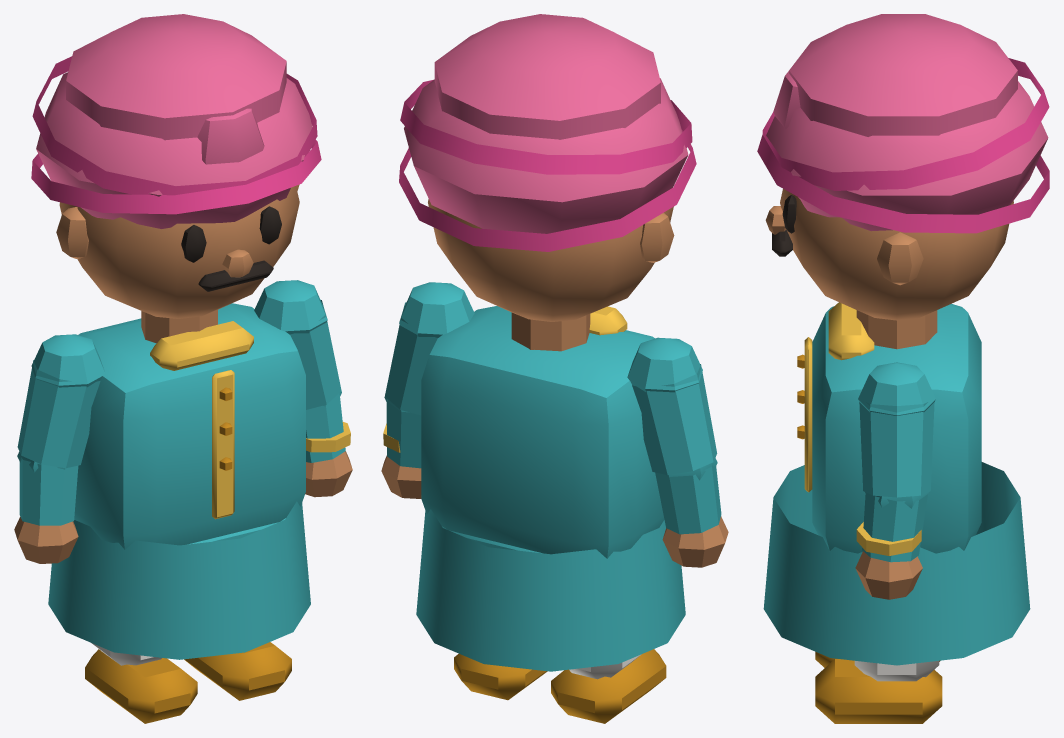
File: trav_baraati_m.glb
3 renders of one model, left to right at view 1: azimuth 30°, elevation 25°; view 2: azimuth 150°, elevation 25°; view 3: azimuth 270°, elevation 25°, orthographic. The views are drawn at different scales.
Visible parts, largest first — view 1: body, head, arm_r, arm_l, leg_r, leg_l; view 2: body, head, arm_r, arm_l, leg_r, leg_l; view 3: head, body, arm_l, leg_l.
Part boxes in pixels (x1,y1,x2,y2): body: (48,303,310,659); head: (31,14,321,318); arm_r: (14,334,104,563); arm_l: (254,280,352,497); leg_r: (85,643,197,723); leg_l: (184,642,291,700); body: (416,306,685,671); head: (399,14,696,321); arm_r: (627,337,728,567); arm_l: (381,282,474,498); leg_r: (551,649,666,723); leg_l: (454,654,547,700); head: (757,14,1049,320); body: (763,302,1030,665); arm_l: (855,362,935,599); leg_l: (815,659,942,723).
Size of the model in its own units: 0.6219 by 1.16 by 0.4678.
1 material, 1 textured.
